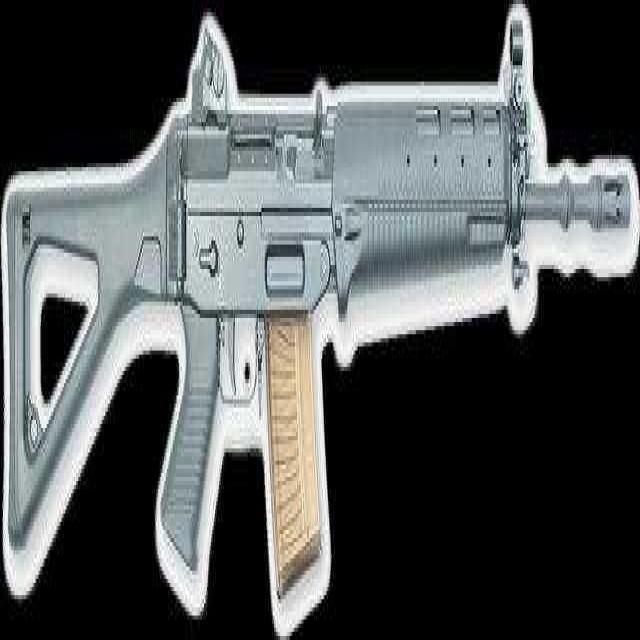weapon: (0, 32, 628, 640)
